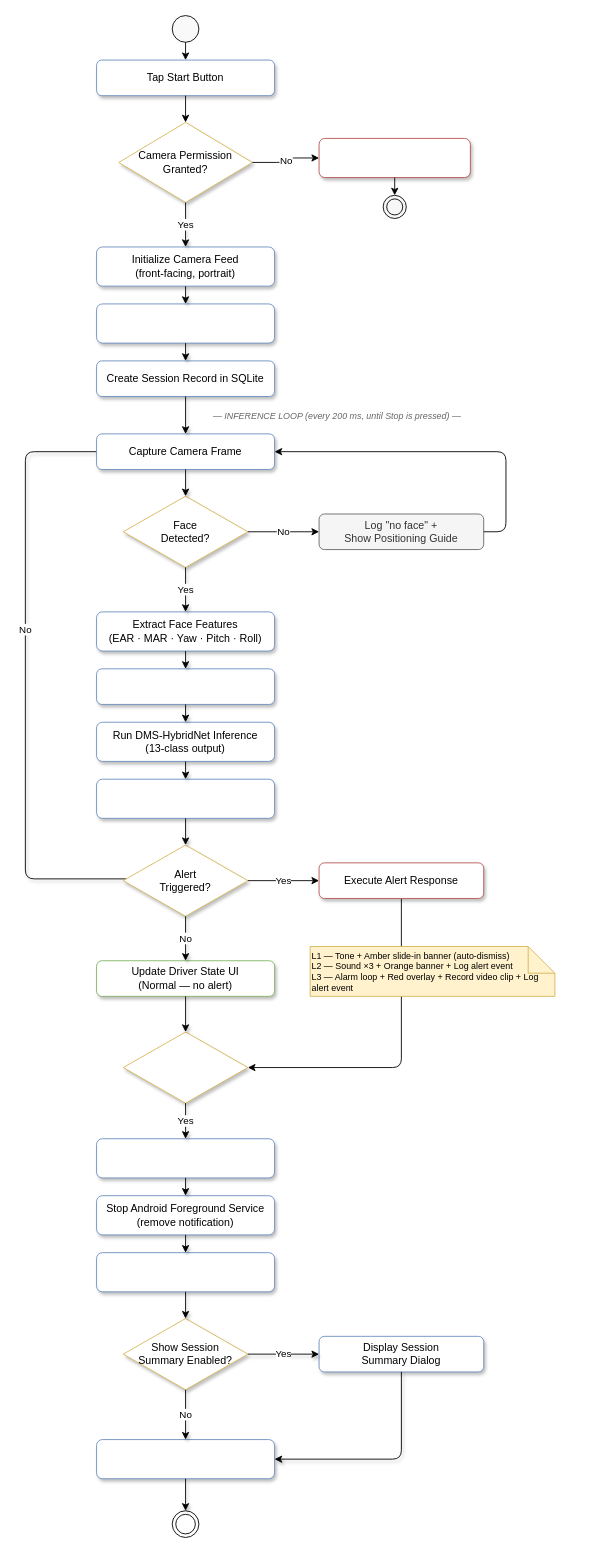
The diagram is 602 pixels wide and 1553 high, and some of its shapes have lost their labels. The shapes that lost their labels are listed below. From the top down, each one's centre as x and y in pixels, then its label:
(395,159): Show Error & Abort (prompt settings)
(186,324): Start Android Foreground Service (persistent status-bar notification)
(186,687): Normalize Feature Vector
(186,800): Evaluate Behavior Against Alert Thresholds
(186,1068): Stop Button Pressed?
(186,1159): Stop Inference Loop & Release Camera
(186,1273): Finalize Session in SQLite (duration · safety score · alertness)
(186,1460): Monitor Returns to Idle (Start button visible)
